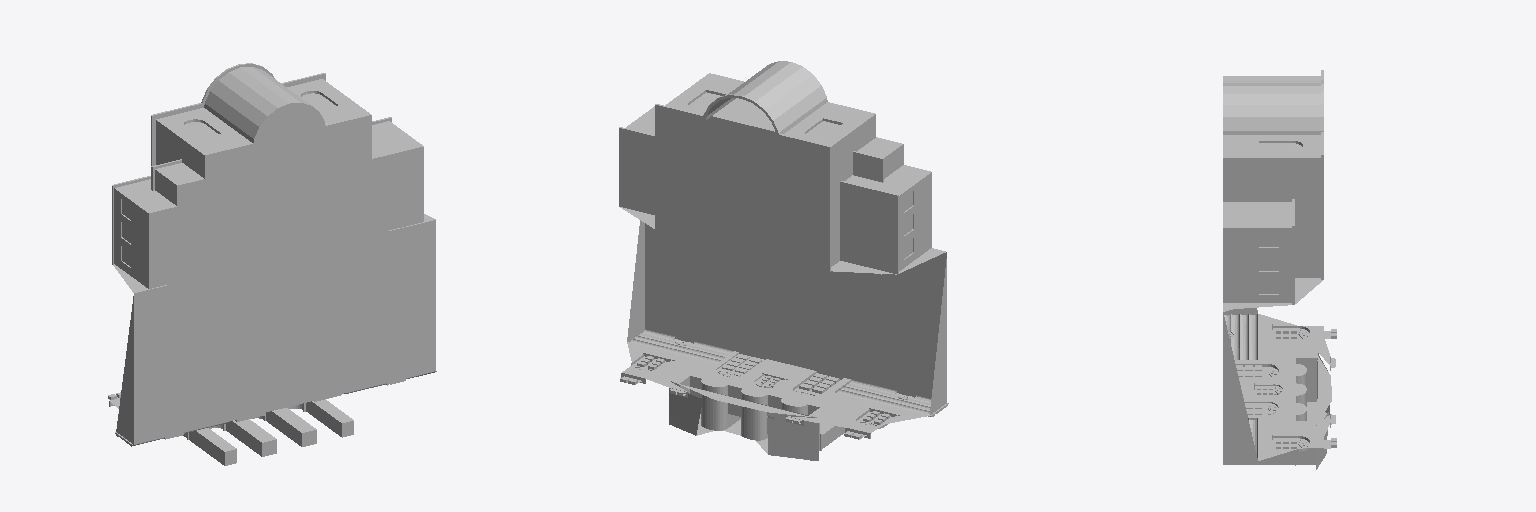
File: łaznia 1drugaa.obj
3 views of the same model, side by side, from view 1: azimuth 30°, elevation 25°; view 2: azimuth 150°, elevation 25°; view 3: azimuth 270°, elevation 25° (orthographic).
Parts seen in each view (by area): view 1: Laznia-Rogatka_Lubelska_Laznia_cala_; view 2: Laznia-Rogatka_Lubelska_Laznia_cala_; view 3: Laznia-Rogatka_Lubelska_Laznia_cala_.
Part boxes in pixels (left/top/right/bottom): Laznia-Rogatka_Lubelska_Laznia_cala_: left=108, top=63, right=436, bottom=465; Laznia-Rogatka_Lubelska_Laznia_cala_: left=619, top=61, right=948, bottom=460; Laznia-Rogatka_Lubelska_Laznia_cala_: left=1223, top=70, right=1336, bottom=469.
Bounding box in the file's own units: 0.0388 × 0.0426 × 0.0126.